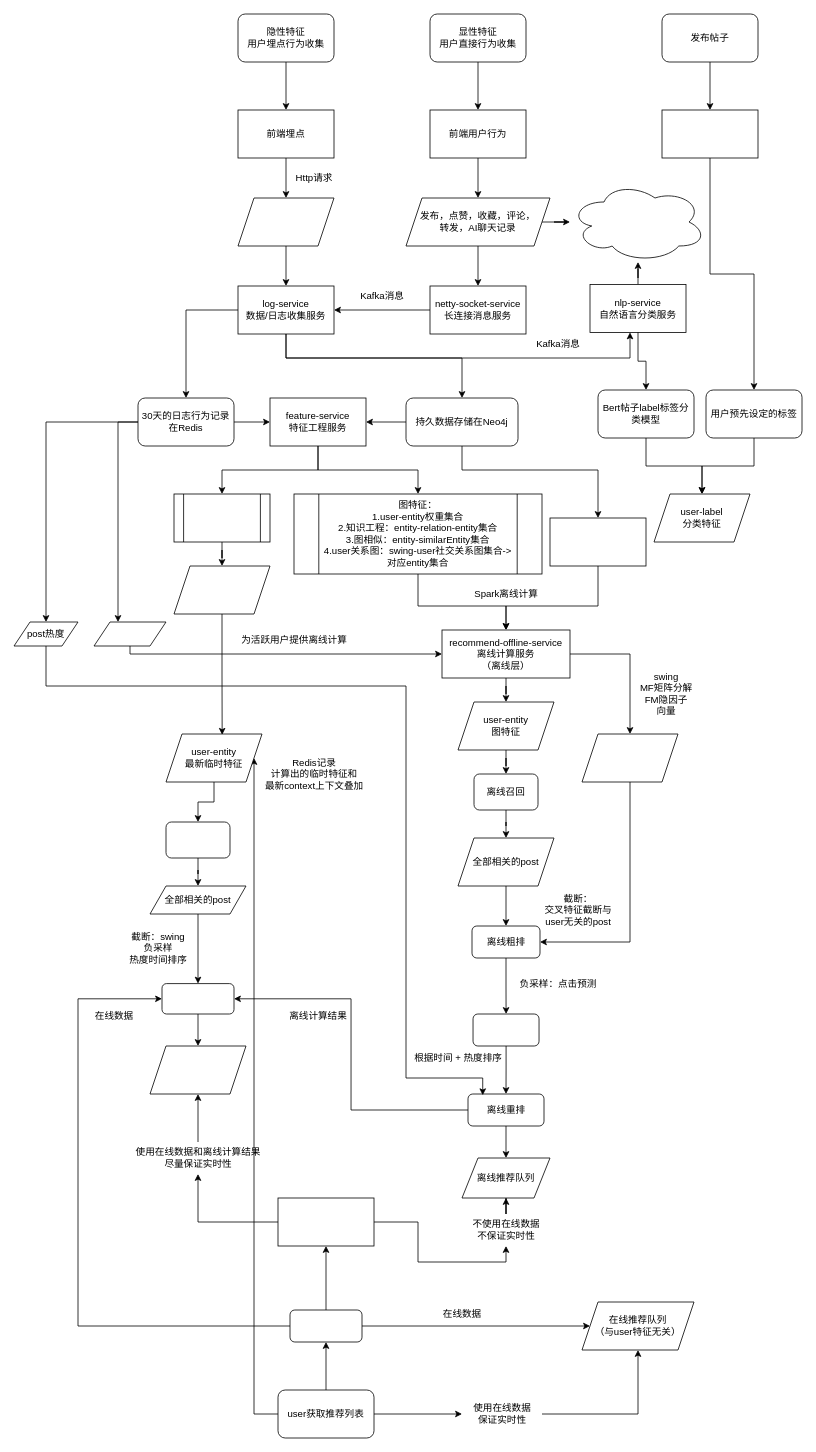
Some shapes in this 816 by 1452 pixel diagram are drawn without their labels. Here are the shapes that lost their labels. From the top down, the centre of each, then its label:
[709,133]: post-service 帖子服务
[285,221]: 点击，浏览时长
[637,221]: Bert语义情感分类模型， 根据评论情感分析态度
[221,517]: 根据记录时间 热度递减
[597,541]: cross-feature 交叉特征服务
[221,589]: user-entity 临时特征
[129,633]: user活跃度
[629,757]: user-post 交叉特征
[197,839]: 近线召回
[197,998]: 近线排序
[505,1029]: 离线精排
[197,1069]: 近线推荐队列
[325,1221]: recommend-service
[325,1325]: 上下文context userId
